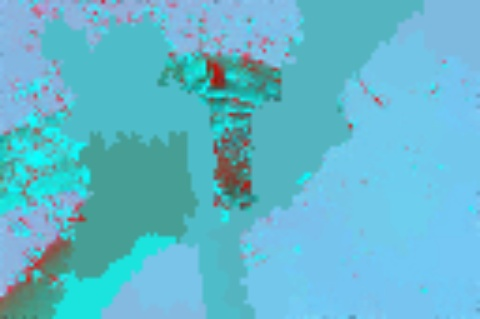washing hand: (79, 29, 400, 314)
